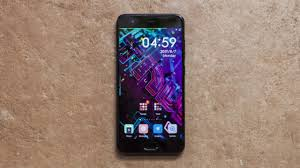mi: (111, 10, 192, 161)
